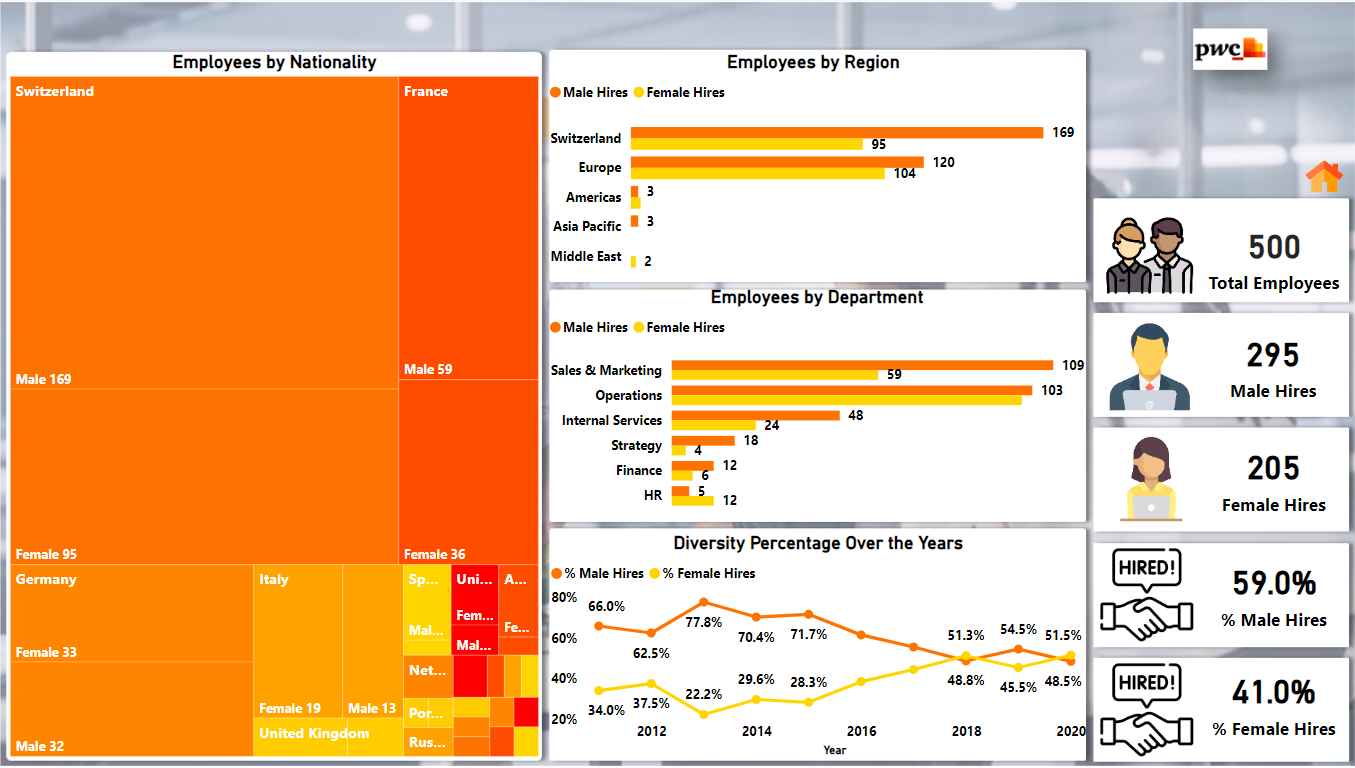

The page's visual inventory and layout, read from the dashboard file:
{"tool":"powerbi","page":{"name":"Diversity and Inclusion Dashboard","canvas":[1280,720],"ordinal":1},"visuals":[{"type":"image","box":[10,0,1270,720],"z":0},{"type":"image","box":[1224.4,144.2,45.3,45.3],"z":1000},{"type":"treemap","title":"Employees by Nationality","fields":{"Details":["Pharma Group AG.Gender"],"Group":["Pharma Group AG.Nationality 1"],"Values":["Count(Pharma Group AG.Employee ID)"]},"box":[19.8,50,501.2,661.6],"z":2000},{"type":"clusteredBarChart","title":"Employees by Region","fields":{"Category":["Pharma Group AG.Region group: nationality 1"],"Y":["main_measures.Male Hires","main_measures.Female Hires"]},"box":[520.9,50,501.2,218.6],"z":3000},{"type":"clusteredBarChart","title":"Employees by Department","fields":{"Category":["Pharma Group AG.Department @01.07.2020"],"Y":["main_measures.Male Hires","main_measures.Female Hires"]},"box":[520.9,268.6,508.1,219.8],"z":4000},{"type":"lineChart","title":"Diversity Percentage Over the Years","fields":{"Category":["Pharma Group AG.Last hire date.Variation.Date Hierarchy.Year","Pharma Group AG.Last hire date.Variation.Date Hierarchy.Quarter","Pharma Group AG.Last hire date.Variation.Date Hierarchy.Month","Pharma Group AG.Last hire date.Variation.Date Hierarchy.Day"],"Y":["main_measures.% Male Hires","main_measures.% Female Hires"]},"box":[522.1,497.7,508.1,214],"z":5000},{"type":"card","fields":{"Values":["main_measures.Total Employees"]},"box":[1130.2,201.2,139.5,79.1],"z":6000},{"type":"image","box":[1038.4,195.3,91.9,90.7],"z":7000},{"type":"card","fields":{"Values":["main_measures.Male Hires"]},"box":[1153.5,303.5,91.9,75.6],"z":8000},{"type":"image","box":[1038.4,298.8,91.9,90.7],"z":9000},{"type":"card","fields":{"Values":["main_measures.Female Hires"]},"box":[1143,404.7,114,83.7],"z":10000},{"type":"image","box":[1041.9,398.8,88.4,98.8],"z":11000},{"type":"card","fields":{"Values":["main_measures.% Male Hires"]},"box":[1143,502.3,114,102.3],"z":12000},{"type":"image","box":[1033.7,508.1,96.5,96.5],"z":13000},{"type":"image","box":[1033.7,615.1,96.5,96.5],"z":14000},{"type":"card","fields":{"Values":["main_measures.% Female Hires"]},"box":[1130.2,604.7,139.5,101.2],"z":15000}]}

Visuals, with their boxes in screenshot pixels (x1, y1, x2, y2), scaled from the page's 1280x720 canvas onto the 1355x768 screenshot:
image: bbox(11, 0, 1354, 767)
image: bbox(1296, 154, 1344, 202)
"Employees by Nationality" treemap: bbox(21, 53, 552, 759)
"Employees by Region" clusteredBarChart: bbox(551, 53, 1082, 287)
"Employees by Department" clusteredBarChart: bbox(551, 287, 1089, 521)
"Diversity Percentage Over the Years" lineChart: bbox(553, 531, 1091, 759)
card - main_measures.Total Employees: bbox(1196, 215, 1344, 299)
image: bbox(1099, 208, 1197, 305)
card - main_measures.Male Hires: bbox(1221, 324, 1318, 404)
image: bbox(1099, 319, 1197, 415)
card - main_measures.Female Hires: bbox(1210, 432, 1331, 521)
image: bbox(1103, 425, 1197, 531)
card - main_measures.% Male Hires: bbox(1210, 536, 1331, 645)
image: bbox(1094, 542, 1196, 645)
image: bbox(1094, 656, 1196, 759)
card - main_measures.% Female Hires: bbox(1196, 645, 1344, 753)
